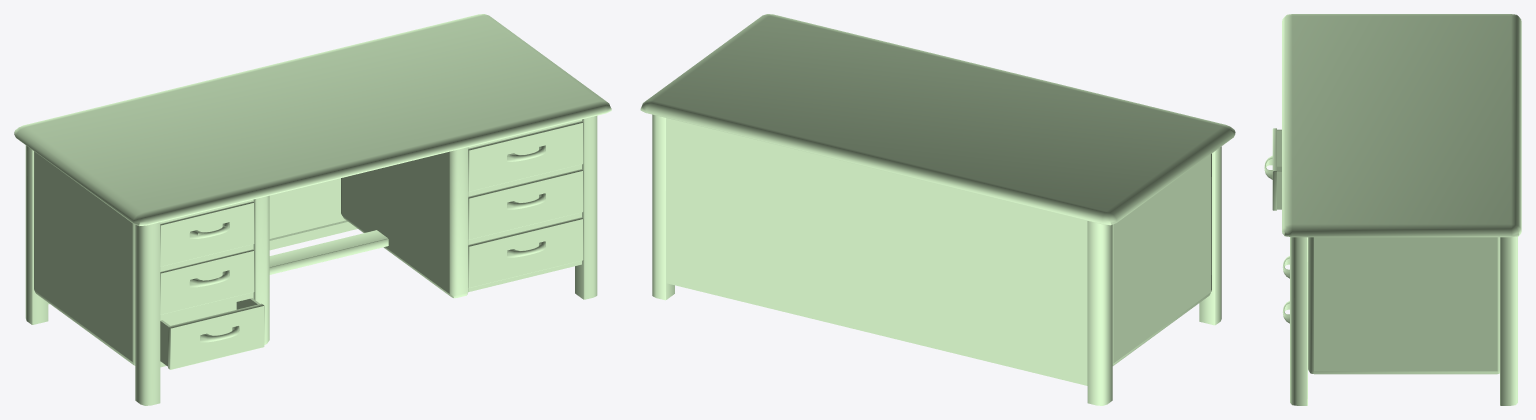
File: 5_material12_scrivania.fbx
The picture shows the model from 3 angles, left to right: view 1: azimuth 30°, elevation 25°; view 2: azimuth 150°, elevation 25°; view 3: azimuth 270°, elevation 25°; orthographic projection. The views are drawn at different scales.
Parts seen in each view (by area): view 1: 5_material12_scrivania; view 2: 5_material12_scrivania; view 3: 5_material12_scrivania.
Boxes of the visible parts, <box> form: 5_material12_scrivania: <box>14,14,611,405</box>; 5_material12_scrivania: <box>640,14,1235,405</box>; 5_material12_scrivania: <box>1264,14,1521,405</box>.
Bounding box in the file's own units: 1232 × 478 × 614.
